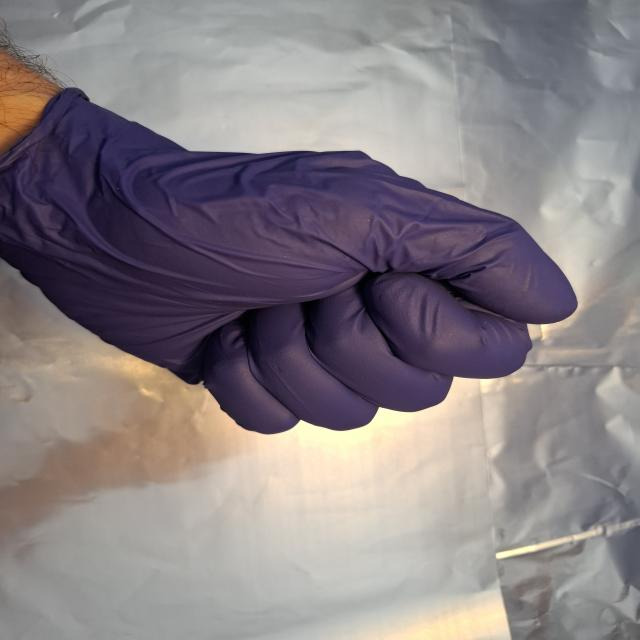glove_on: (0, 84, 581, 437)
